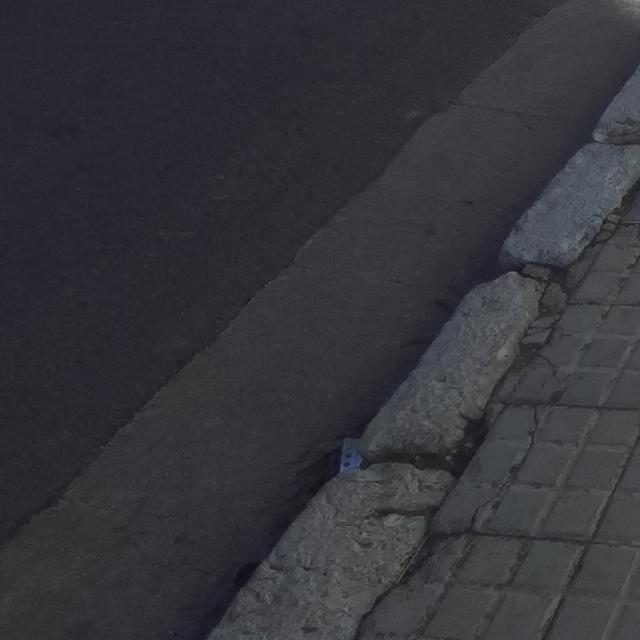calcada_quebrada: (468, 405, 542, 533)
